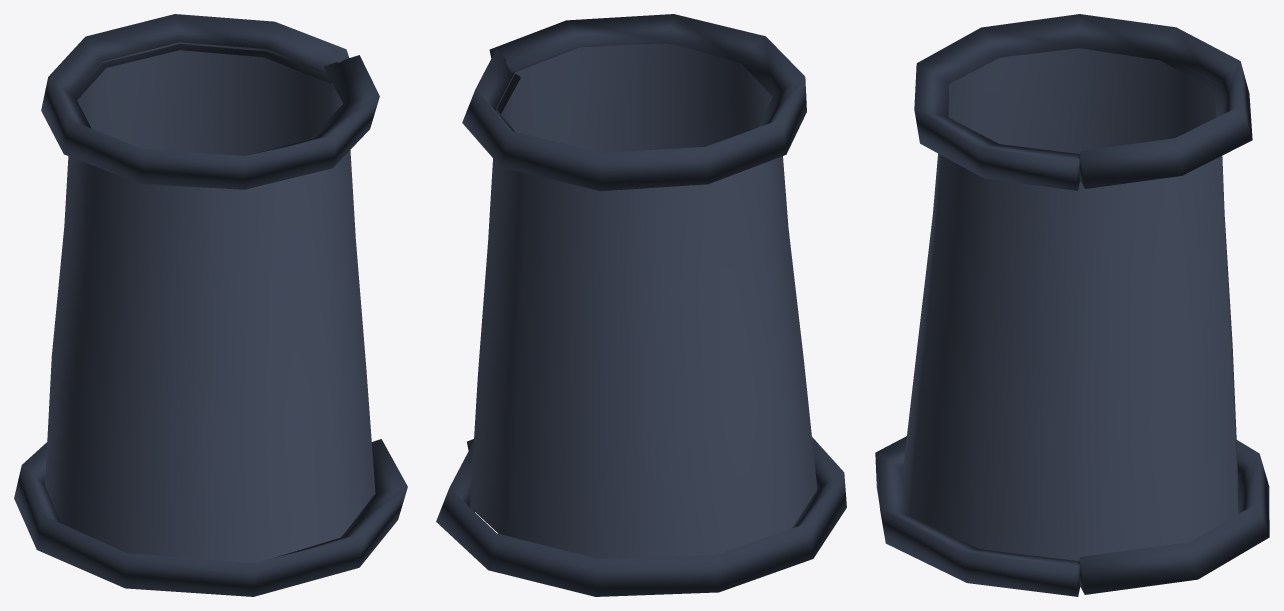
Rendered from lead_armor_bracer.L.glb.
The picture shows the model from 3 angles, left to right: view 1: azimuth 30°, elevation 25°; view 2: azimuth 150°, elevation 25°; view 3: azimuth 270°, elevation 25°; orthographic projection. The views are drawn at different scales.
Parts seen in each view (by area): view 1: lead_armor_bracer.L; view 2: lead_armor_bracer.L; view 3: lead_armor_bracer.L.
Boxes of the visible parts, x1=… form: lead_armor_bracer.L: x1=14, y1=14, x2=407, y2=596; lead_armor_bracer.L: x1=436, y1=14, x2=846, y2=596; lead_armor_bracer.L: x1=875, y1=14, x2=1269, y2=596.
Bounding box in the file's own units: 0.144 × 0.1719 × 0.1414.
